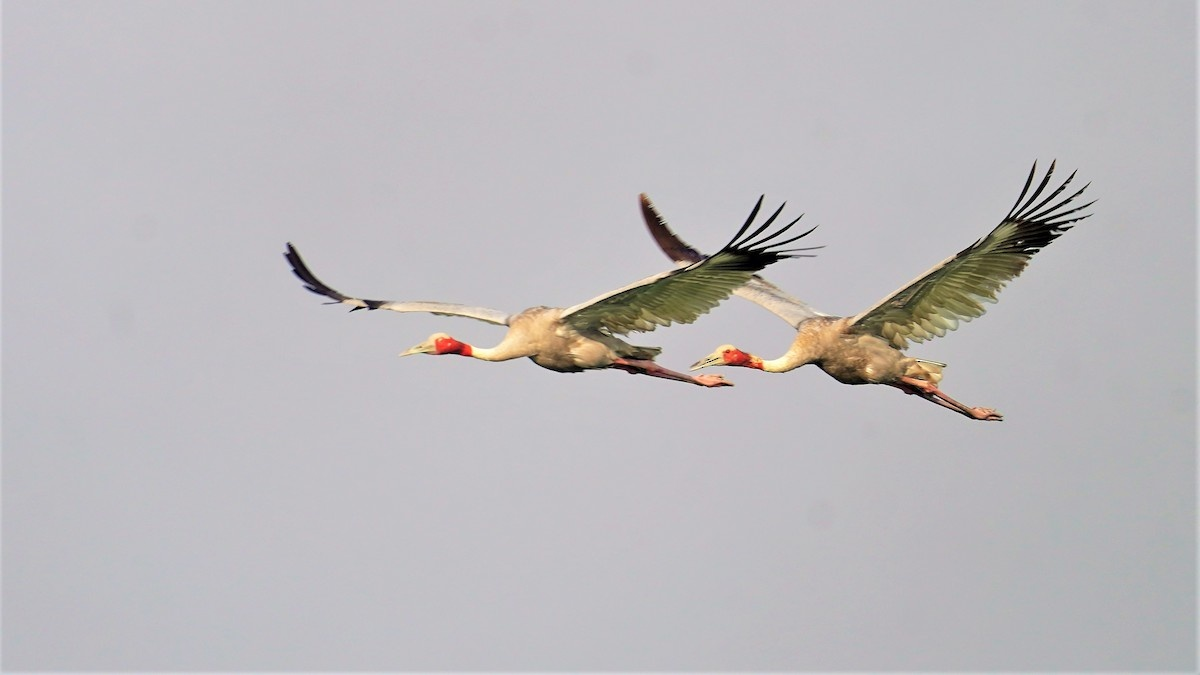crane: (658, 197, 1089, 436), (282, 233, 774, 403)
